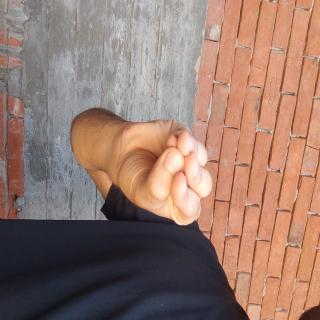HA: (82, 136, 174, 304)
